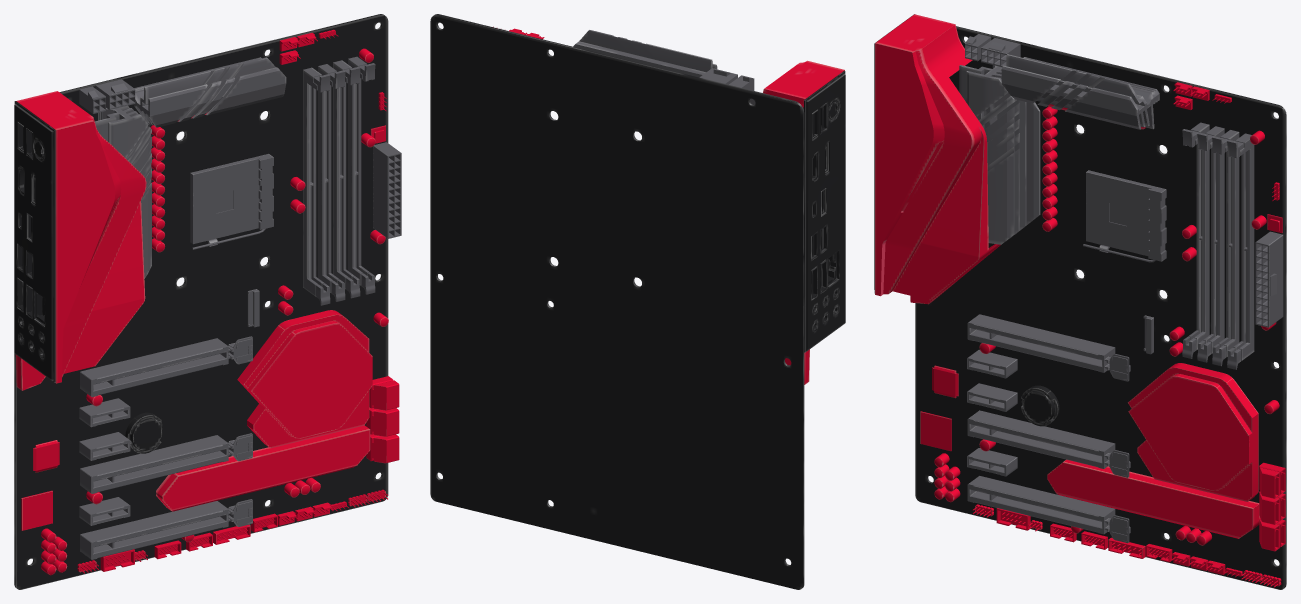
The model's file is mobo.fbx.
The picture shows the model from 3 angles, left to right: view 1: azimuth 30°, elevation 25°; view 2: azimuth 150°, elevation 25°; view 3: azimuth 330°, elevation 25°; orthographic projection.
Parts seen in each view (by area): view 1: pCylinder41, polySurface20_f_2693_1, polySurface21; view 2: pCylinder41, polySurface21, polySurface20_f_2693_1; view 3: pCylinder41, polySurface20_f_2693_1, polySurface21.
Part boxes in pixels (left/top/right/bottom): pCylinder41: left=14, top=14, right=388, bottom=589; polySurface20_f_2693_1: left=15, top=29, right=399, bottom=575; polySurface21: left=79, top=56, right=401, bottom=559; pCylinder41: left=430, top=14, right=845, bottom=589; polySurface21: left=573, top=30, right=755, bottom=104; polySurface20_f_2693_1: left=493, top=26, right=844, bottom=384; pCylinder41: left=874, top=14, right=1286, bottom=589; polySurface20_f_2693_1: left=875, top=14, right=1285, bottom=587; polySurface21: left=959, top=34, right=1283, bottom=543.
Size of the model in its own units: 260 by 323 by 49.93.
Materials: 1 (1 with a texture image).
